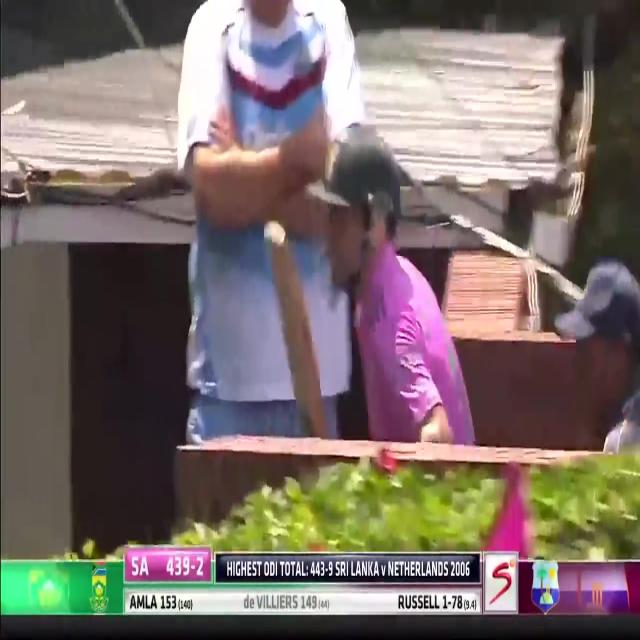Ball: (310, 134, 465, 446)
